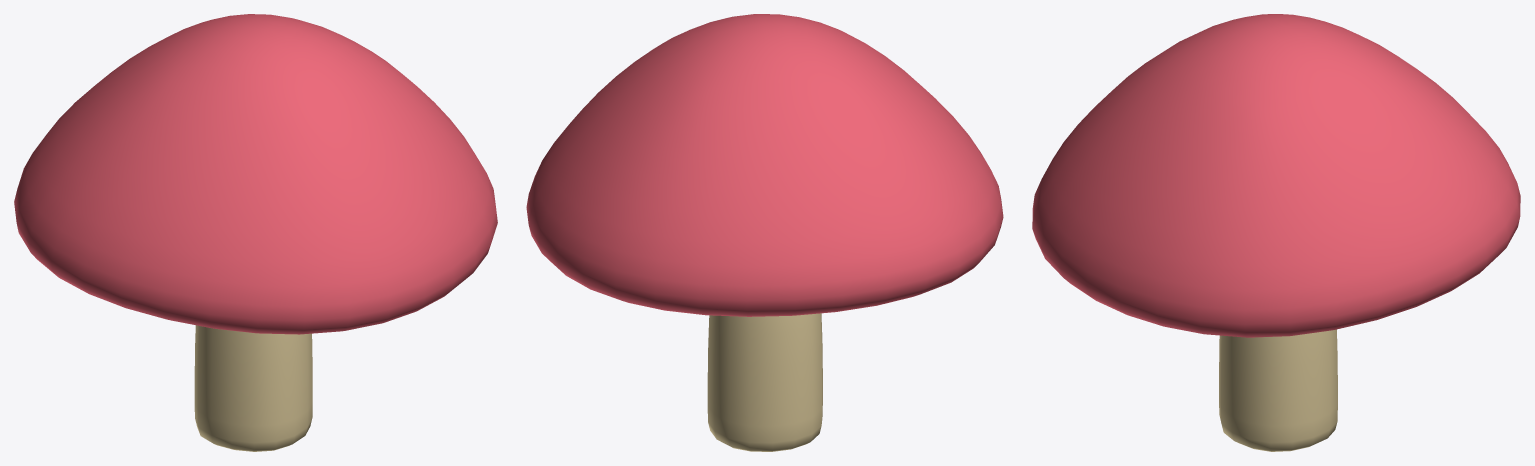
The model's file is Mushroom_5.fbx.
3 renders of one model, left to right at view 1: azimuth 30°, elevation 25°; view 2: azimuth 150°, elevation 25°; view 3: azimuth 270°, elevation 25°, orthographic.
Visible parts, largest first — view 1: Mushroom_5; view 2: Mushroom_5; view 3: Mushroom_5.
Part boxes in pixels (x1,y1,x2,y2): Mushroom_5: (14,14,497,451); Mushroom_5: (526,14,1003,451); Mushroom_5: (1032,14,1520,451).
Bounding box in the file's own units: 16.17 × 14.75 × 16.16.
